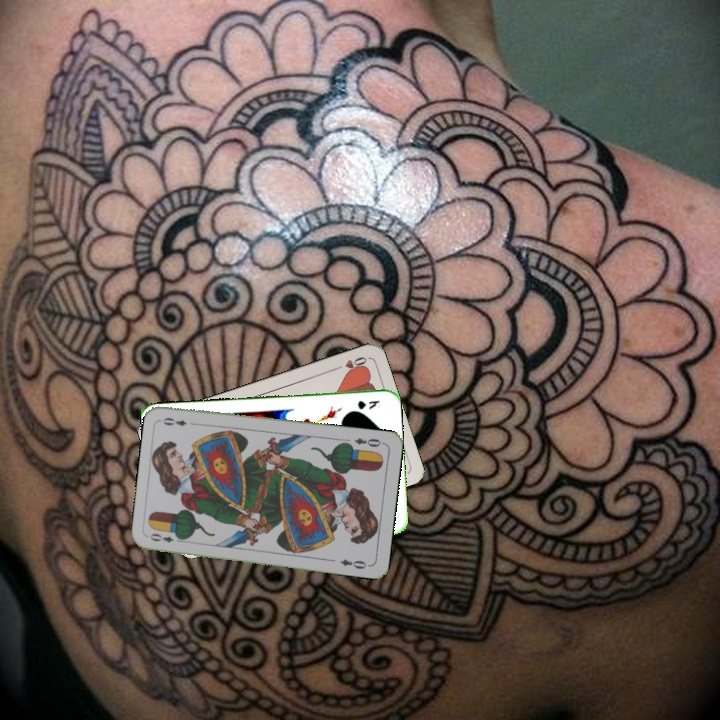EO: (146, 529, 186, 545), (350, 433, 387, 449)
GK: (354, 396, 382, 412)
HO: (330, 352, 369, 374)
